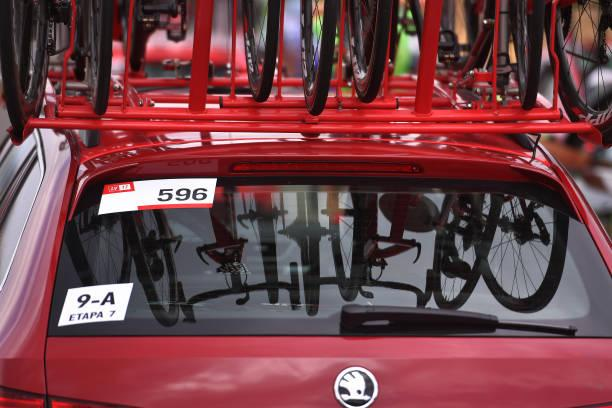skoda: (333, 360, 384, 408)
